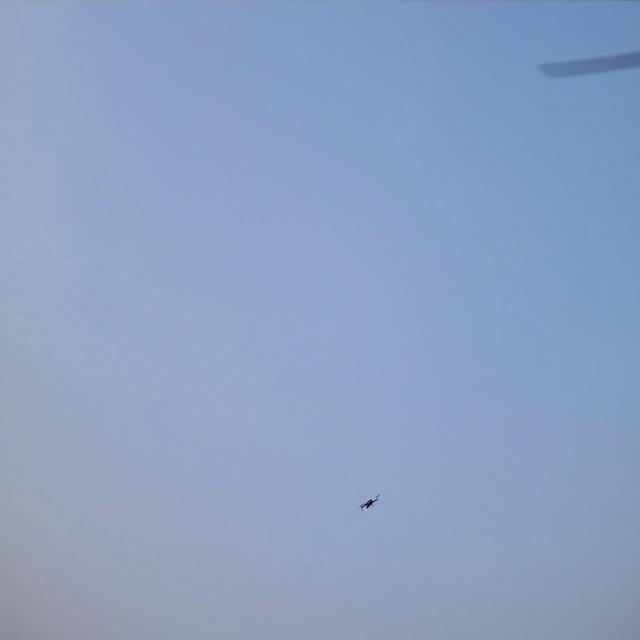UAV: (361, 496, 377, 510)
